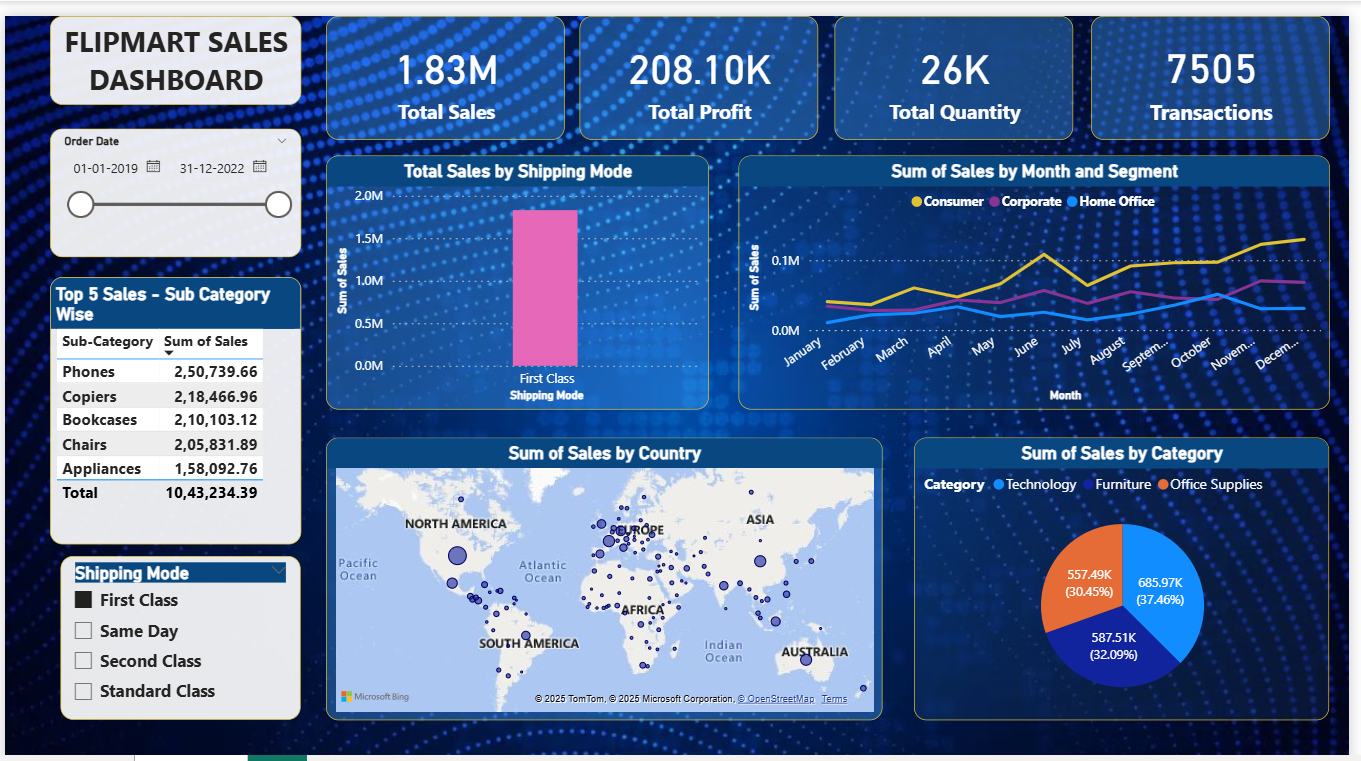

The page's visual inventory and layout, read from the dashboard file:
{"tool":"powerbi","page":{"name":"Page 1","canvas":[1280,720],"ordinal":0},"visuals":[{"type":"card","fields":{"Values":["Sum(Sales.Sales)"]},"box":[305.9,0,227.1,118.1],"z":0},{"type":"card","fields":{"Values":["Sum(Sales.Profit)"]},"box":[546.6,0,227.1,118.1],"z":1000},{"type":"card","fields":{"Values":["Sum(Sales.Quantity)"]},"box":[790.4,0,227.1,118.1],"z":2000},{"type":"card","fields":{"Values":["CountNonNull(Sales.Order ID)"]},"box":[1034.2,0,227.1,118.1],"z":3000},{"type":"clusteredColumnChart","title":"Total Sales by Shipping Mode","fields":{"Y":["Sum(Sales.Sales)"],"Category":["Sales.Shipping Mode"]},"box":[305.9,133.3,364.9,242.3],"z":4000},{"type":"pieChart","fields":{"Category":["Sales.Category"],"Y":["Sum(Sales.Sales)"]},"box":[866.1,401.3,395.2,269.5],"z":5000},{"type":"lineChart","fields":{"Series":["Sales.Segment"],"Y":["Sum(Sales.Sales)"],"Category":["Sales.Order Date.Variation.Date Hierarchy.Month"]},"box":[698,133.3,563.3,242.3],"z":6000},{"type":"map","fields":{"Category":["Sales.Country"],"Size":["Sum(Sales.Sales)"]},"box":[305.9,401.3,530,269.5],"z":7000},{"type":"tableEx","title":"Top 5 Sales - Sub Category Wise","fields":{"Values":["Sales.Sub-Category","Sum(Sales.Sales)"]},"box":[42.4,248.3,239.2,254.4],"z":8000},{"type":"slicer","fields":{"Values":["Sales.Shipping Mode"]},"box":[53,514.8,228.6,156],"z":9000},{"type":"slicer","fields":{"Values":["Sales.Order Date"]},"box":[42.4,107.5,239.2,122.7],"z":10000},{"type":"textbox","box":[42.4,0,239.2,84.8],"z":11000}]}

Visuals, with their boxes in screenshot pixels (x1, y1, x2, y2), scaled from the page's 1280x720 canvas onto the 1361x761 screenshot:
card - Sum(Sales.Sales): (325, 0, 567, 125)
card - Sum(Sales.Profit): (581, 0, 823, 125)
card - Sum(Sales.Quantity): (840, 0, 1082, 125)
card - CountNonNull(Sales.Order ID): (1100, 0, 1341, 125)
"Total Sales by Shipping Mode" clusteredColumnChart: (325, 141, 713, 397)
pieChart - Sales.Category x Sum(Sales.Sales): (921, 424, 1341, 709)
lineChart - Sales.Segment x Sum(Sales.Sales): (742, 141, 1341, 397)
map - Sales.Country x Sum(Sales.Sales): (325, 424, 889, 709)
"Top 5 Sales - Sub Category Wise" tableEx: (45, 262, 299, 531)
slicer - Sales.Shipping Mode: (56, 544, 299, 709)
slicer - Sales.Order Date: (45, 114, 299, 243)
textbox: (45, 0, 299, 90)
